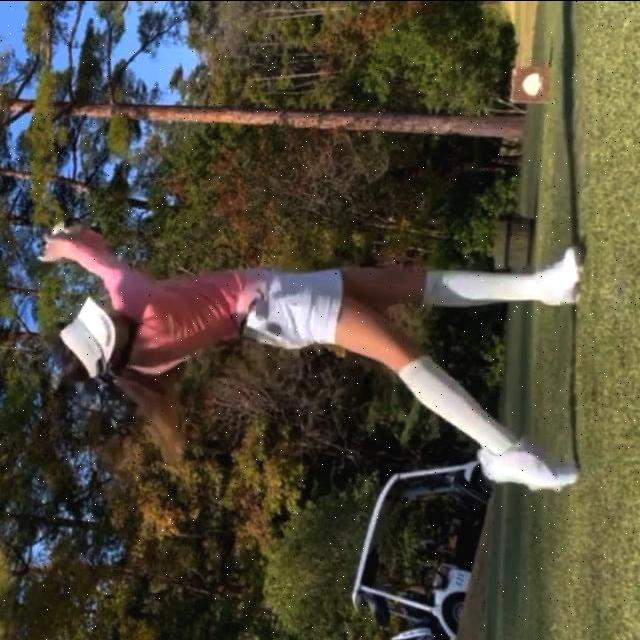golf ball: (525, 71, 546, 95)
golf club-handle: (35, 215, 81, 248)
